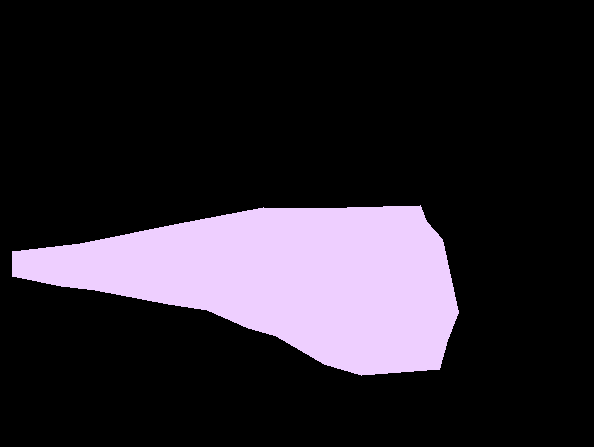Train: (12, 205, 458, 375)
